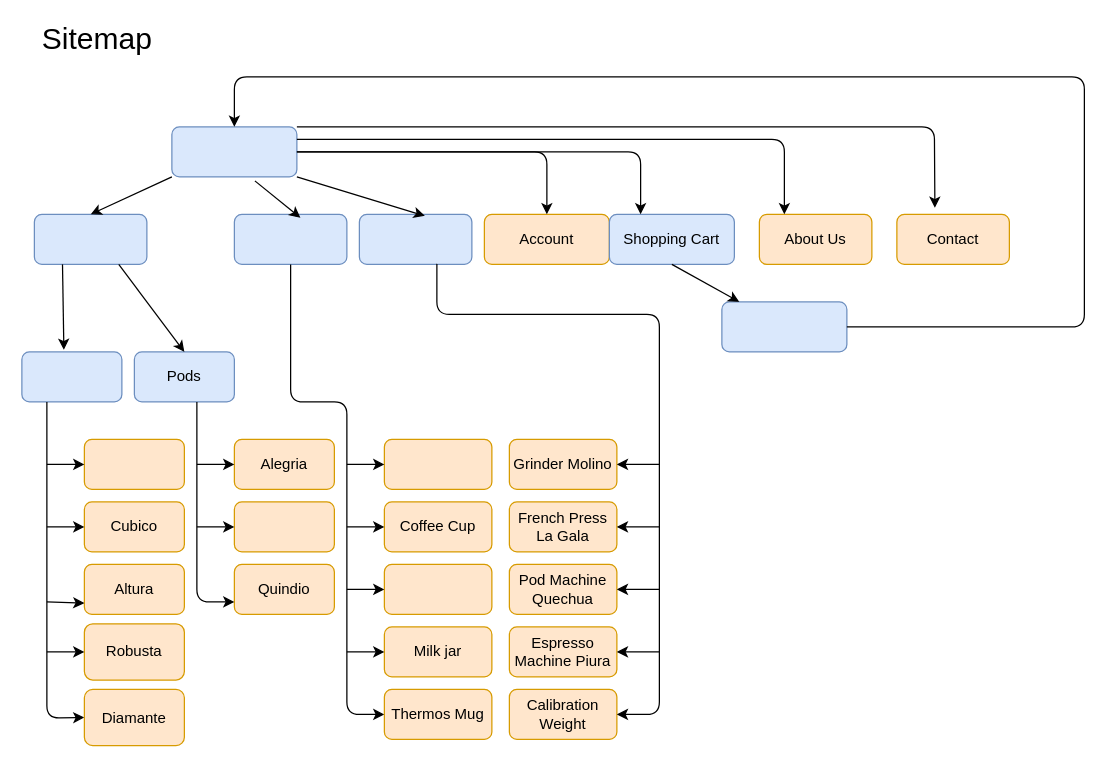
Image size: 1116x768. Some labels were removed from this diagram. The centre of each missing label's shape, as x and y in pixels:
"Accessories" belongs at pixel 290 238.
"Beans" belongs at pixel 71 376.
"Capuccino Cup" belongs at pixel 437 588.
"Checkout" belongs at pixel 784 326.
"Coffee" belongs at pixel 90 238.
"Cotopaxi" belongs at pixel 283 526.
"Espresso Cup" belongs at pixel 437 463.
"Home" belongs at pixel 234 151.
"Machines" belongs at pixel 415 238.
"Volcanica" belongs at pixel 133 463.
